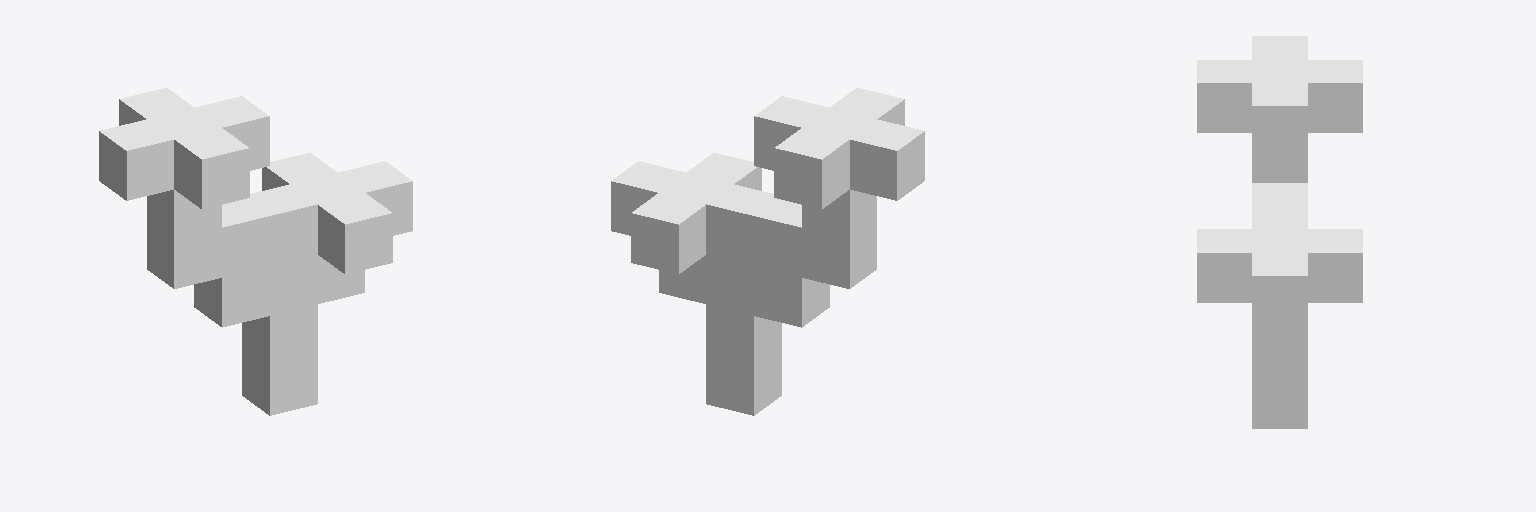
File: meadow_with_tree_02-1.obj
3 renders of one model, left to right at view 1: azimuth 30°, elevation 25°; view 2: azimuth 150°, elevation 25°; view 3: azimuth 270°, elevation 25°, orthographic.
Visible parts, largest first — view 1: object 1; view 2: object 1; view 3: object 1.
Part boxes in pixels (x1,y1,x2,y2): object 1: (99,88,412,415); object 1: (611,88,924,415); object 1: (1197,36,1362,428).
Size of the model in its own units: 0.6 by 0.6 by 0.3.